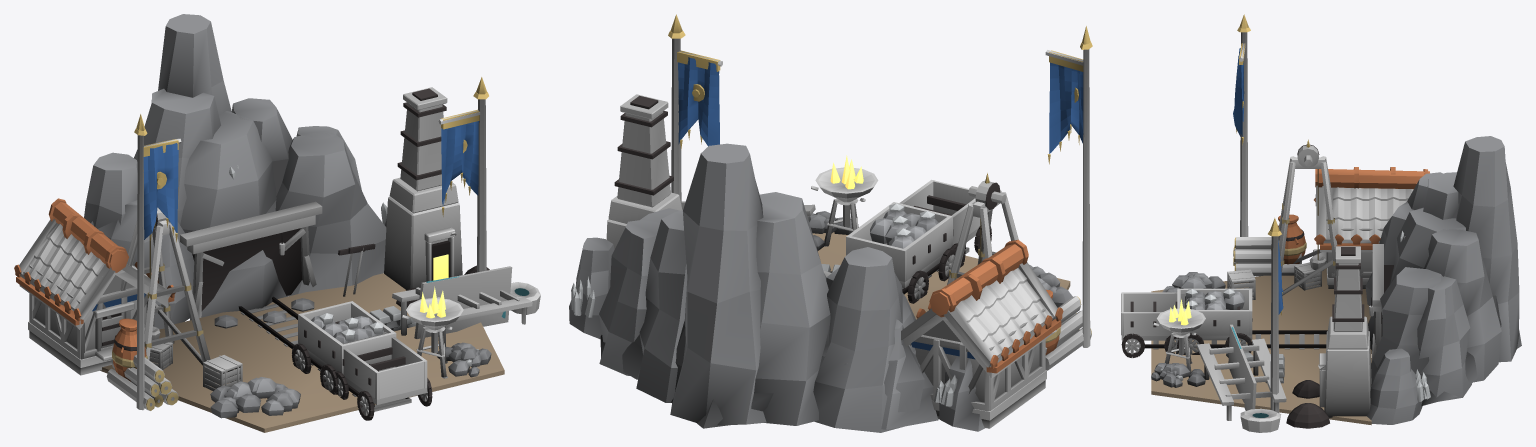
The model's file is silver-mine-l3.glb.
The picture shows the model from 3 angles, left to right: view 1: azimuth 30°, elevation 25°; view 2: azimuth 150°, elevation 25°; view 3: azimuth 270°, elevation 25°; orthographic projection. The views are drawn at different scales.
Parts seen in each view (by area): view 1: silver-mine-l3; view 2: silver-mine-l3; view 3: silver-mine-l3.
Part boxes in pixels (x1,y1,x2,y2): silver-mine-l3: (14,14,540,432); silver-mine-l3: (569,14,1092,432); silver-mine-l3: (1121,14,1521,432).
Size of the model in its own units: 1.7 by 1.15 by 1.62.
